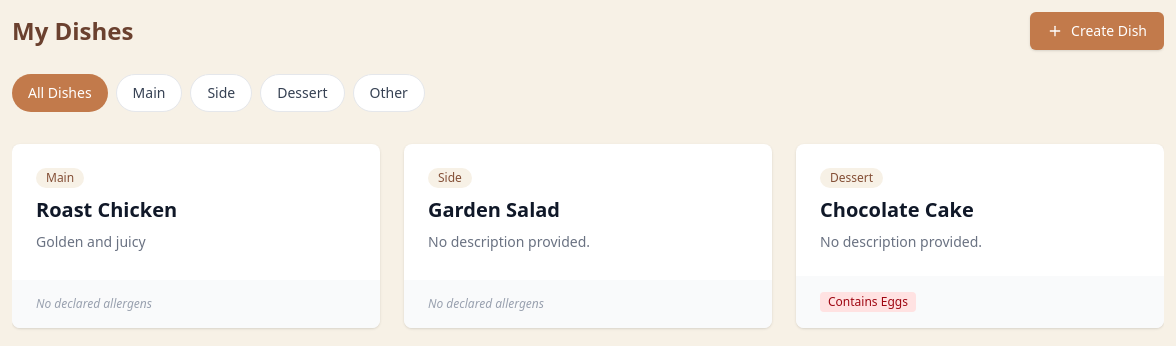
dishes page › filters dishes by category chips
Expected: the heading "My Dishes" is shown, top-left (12, 15), bottom-right (133, 47)
Click the button "dessert" at (302, 93), box top-left (260, 74), bottom-right (345, 112)
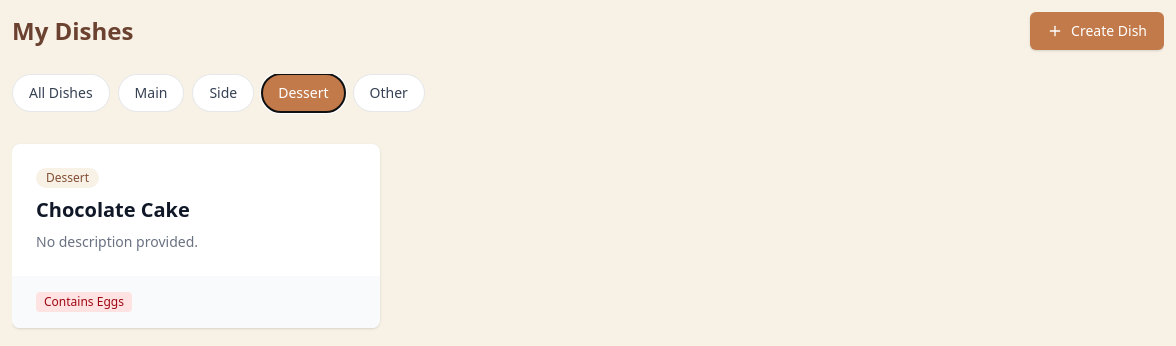
Expected: the heading "Chocolate Cake" is shown, top-left (36, 196), bottom-right (190, 223)
Expected: the heading "Roast Chicken" is gone
